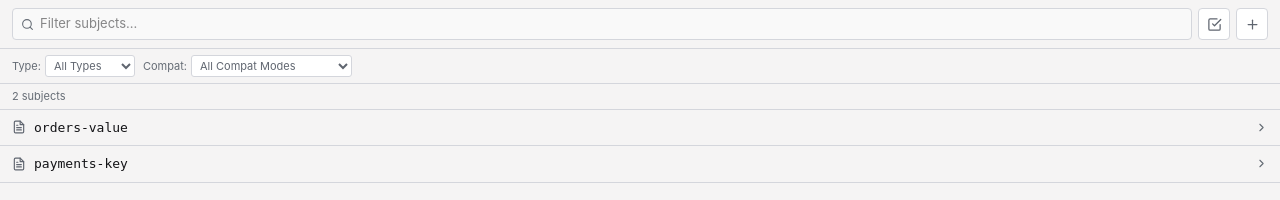
Test: [@schema-list] search/filter › clear button resets the filter and shows all subjects again
This screenshot has width=1280, height=200.
Type "orders" into the field named "filter schema subjects" at (612, 24), box [40, 14, 1183, 34]
Wait 300 ms
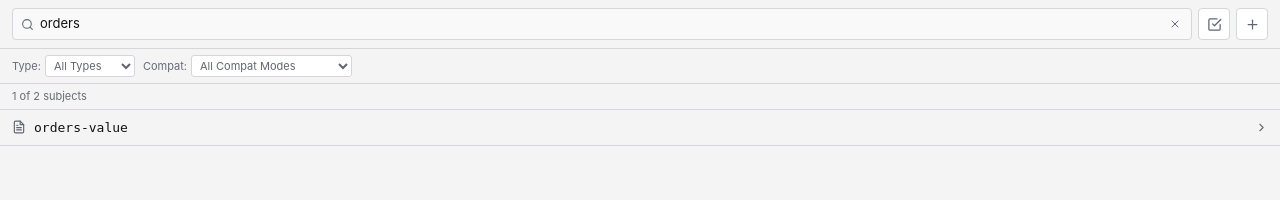
Check: the text "payments-key" is gone
Click clear — sets searchQuery to '' immediately
Click the button named "clear filter" at (1175, 24), box [1167, 16, 1183, 32]
Wait 300 ms
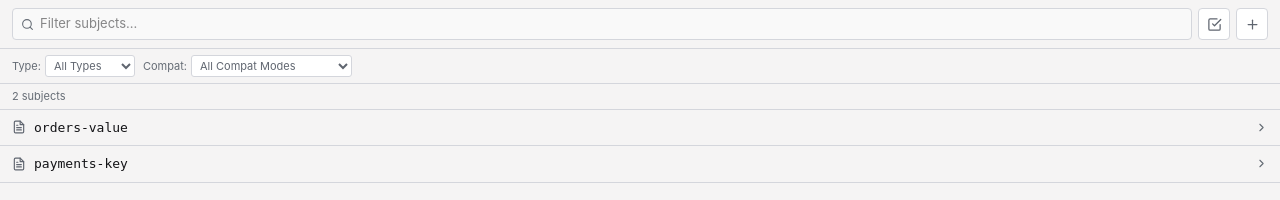
Check: the text "orders-value" is shown, box [34, 120, 128, 134]
Check: the text "payments-key" is shown, box [34, 156, 128, 171]
